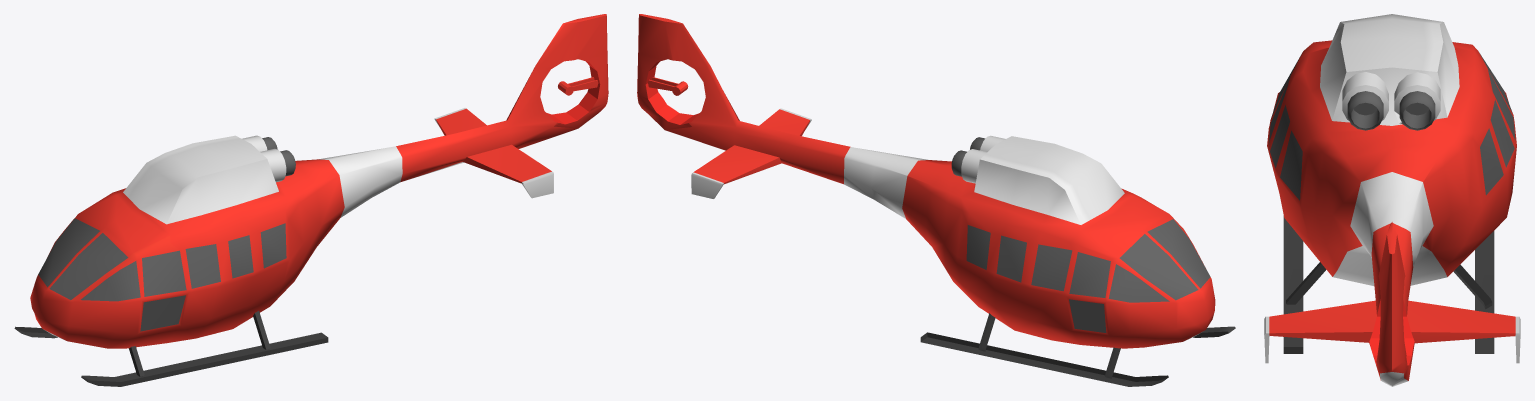
The model's file is helicopter_body.obj.
3 renders of one model, left to right at view 1: azimuth 30°, elevation 25°; view 2: azimuth 150°, elevation 25°; view 3: azimuth 270°, elevation 25°, orthographic. The views are drawn at different scales.
Visible parts, largest first — view 1: Copter, Legs, Cylinder; view 2: Copter, Legs, Cylinder; view 3: Copter, Legs, Cylinder.
Boxes of the visible parts, x1,y1,x2,y2 form: Copter: [30, 14, 608, 348]; Legs: [14, 311, 328, 386]; Cylinder: [547, 61, 600, 124]; Copter: [637, 14, 1215, 348]; Legs: [920, 313, 1235, 386]; Cylinder: [645, 61, 699, 124]; Copter: [1264, 14, 1520, 386]; Legs: [1283, 216, 1494, 353]; Cylinder: [1369, 299, 1414, 365].
Bounding box in the file's own units: 83.36 × 31.49 × 22.64.
Materials: 1 (1 with a texture image).
